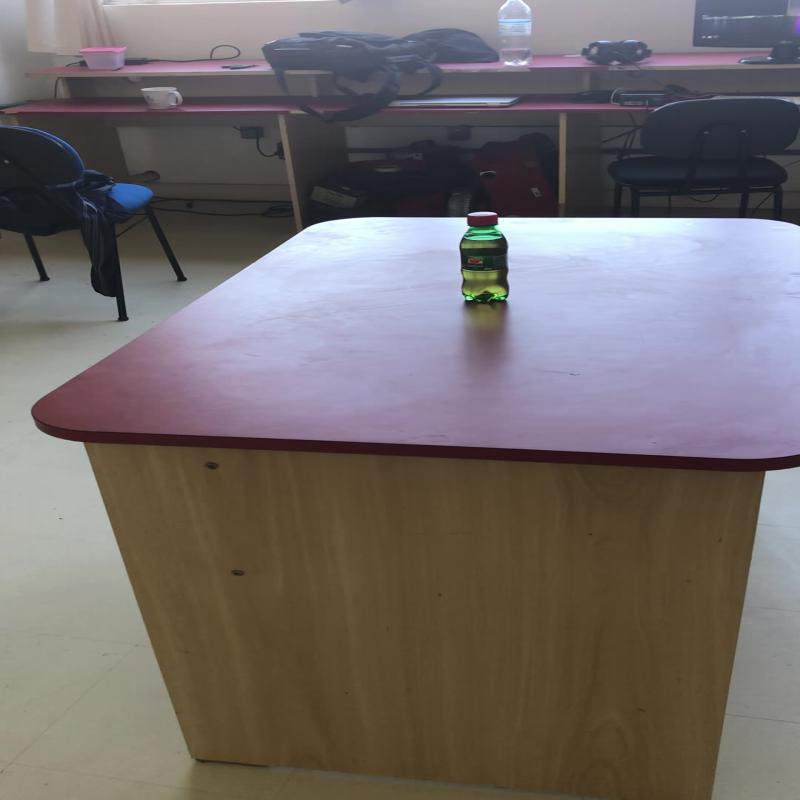guarana: (457, 210, 509, 302)
